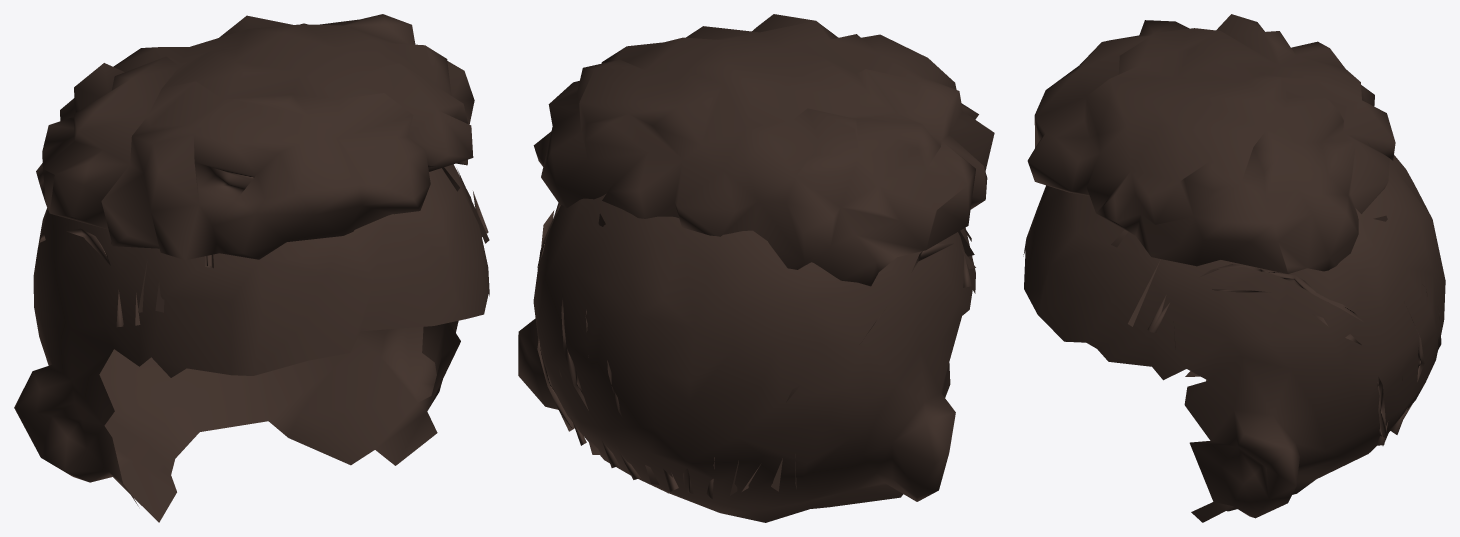
File: curls.glb
The picture shows the model from 3 angles, left to right: view 1: azimuth 30°, elevation 25°; view 2: azimuth 150°, elevation 25°; view 3: azimuth 270°, elevation 25°; orthographic projection. The views are drawn at different scales.
Parts seen in each view (by area): view 1: HairScalp, Hair, HairPulledRootStrands; view 2: HairScalp, Hair, HairPulledRootStrands; view 3: HairScalp, Hair, HairPulledRootStrands.
Part boxes in pixels (left/top/right/bottom): HairScalp: left=14, top=164, right=489, bottom=522; Hair: left=36, top=14, right=474, bottom=260; HairPulledRootStrands: left=38, top=167, right=489, bottom=327; HairScalp: left=518, top=193, right=975, bottom=522; Hair: left=533, top=14, right=994, bottom=286; HairPulledRootStrands: left=537, top=202, right=975, bottom=498; HairScalp: left=1023, top=155, right=1445, bottom=522; Hair: left=1027, top=14, right=1395, bottom=273; HairPulledRootStrands: left=1111, top=230, right=1441, bottom=445.
Bounding box in the file's own units: 0.4593 × 0.4393 × 0.4149.
